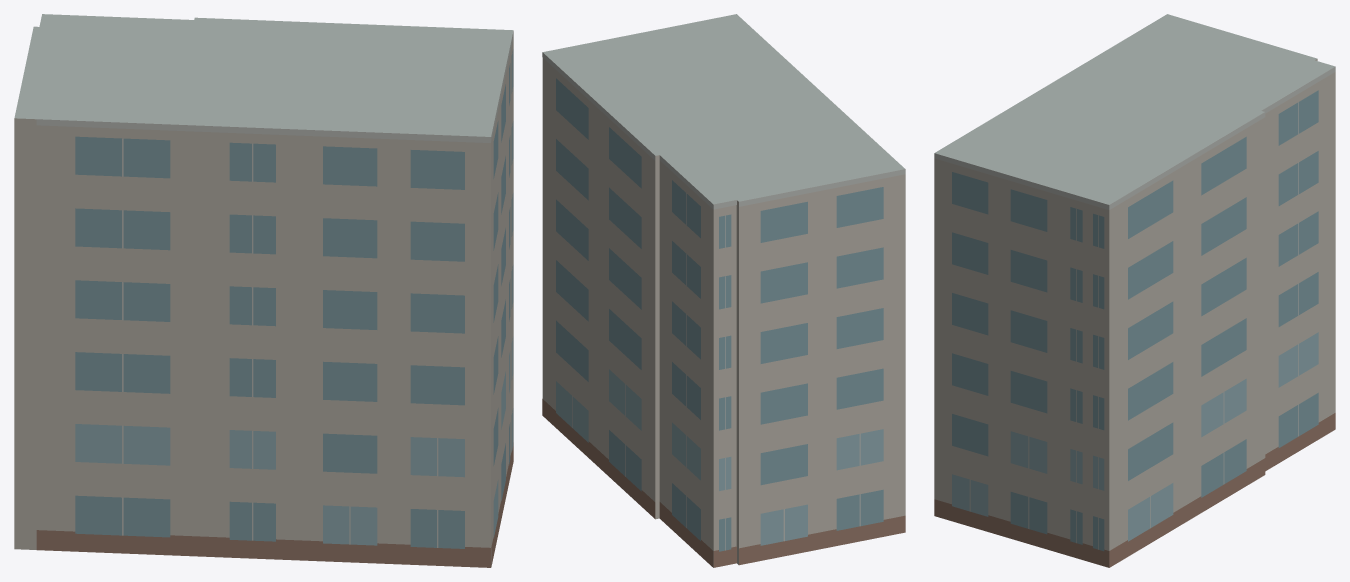
File: survey-upis-32649191.glb
3 views of the same model, side by side, from view 1: azimuth 30°, elevation 25°; view 2: azimuth 150°, elevation 25°; view 3: azimuth 270°, elevation 25° (orthographic). The views are drawn at different scales.
Parts seen in each view (by area): view 1: survey-upis-32649191.tmp; view 2: survey-upis-32649191.tmp; view 3: survey-upis-32649191.tmp.
Part boxes in pixels (x1,y1,x2,y2): survey-upis-32649191.tmp: [14, 14, 513, 567]; survey-upis-32649191.tmp: [542, 14, 905, 567]; survey-upis-32649191.tmp: [934, 14, 1335, 567].
Bounding box in the file's own units: 19.43 × 17.2 × 17.25.
